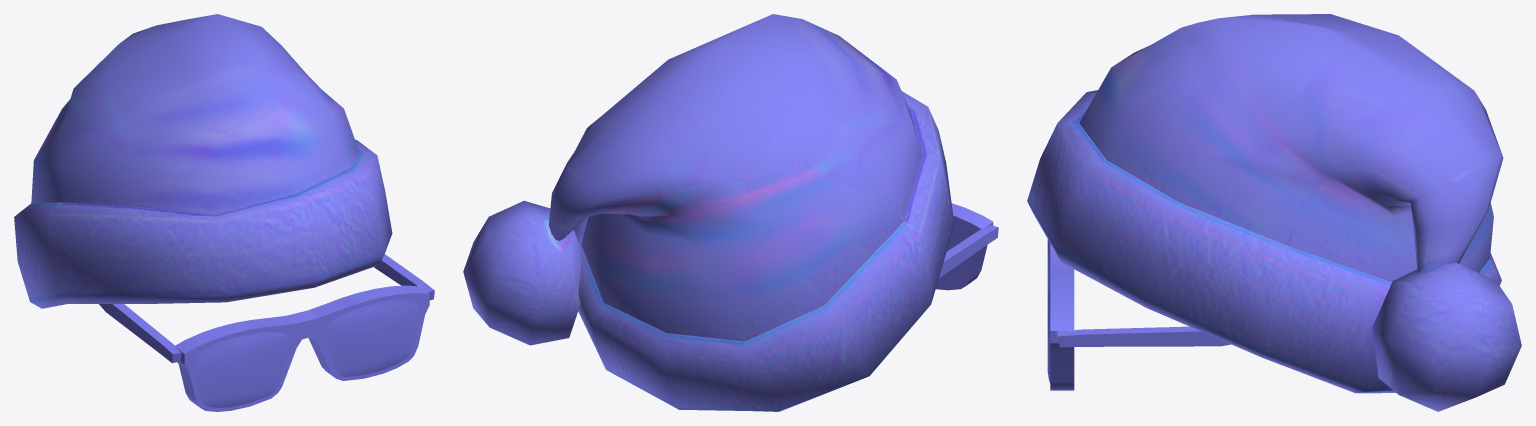
Rendered from Santa Hat Glasses.glb.
3 views of the same model, side by side, from view 1: azimuth 30°, elevation 25°; view 2: azimuth 150°, elevation 25°; view 3: azimuth 270°, elevation 25° (orthographic). The views are drawn at different scales.
Parts seen in each view (by area): view 1: Santa Hat Glasses; view 2: Santa Hat Glasses; view 3: Santa Hat Glasses.
Boxes of the visible parts, box(x1,y1,x2,y2) form: Santa Hat Glasses: box(14, 14, 434, 411); Santa Hat Glasses: box(463, 14, 998, 411); Santa Hat Glasses: box(1027, 14, 1521, 411).
Bounding box in the file's own units: 0.2346 × 0.1851 × 0.2383.
1 material, 1 textured.
